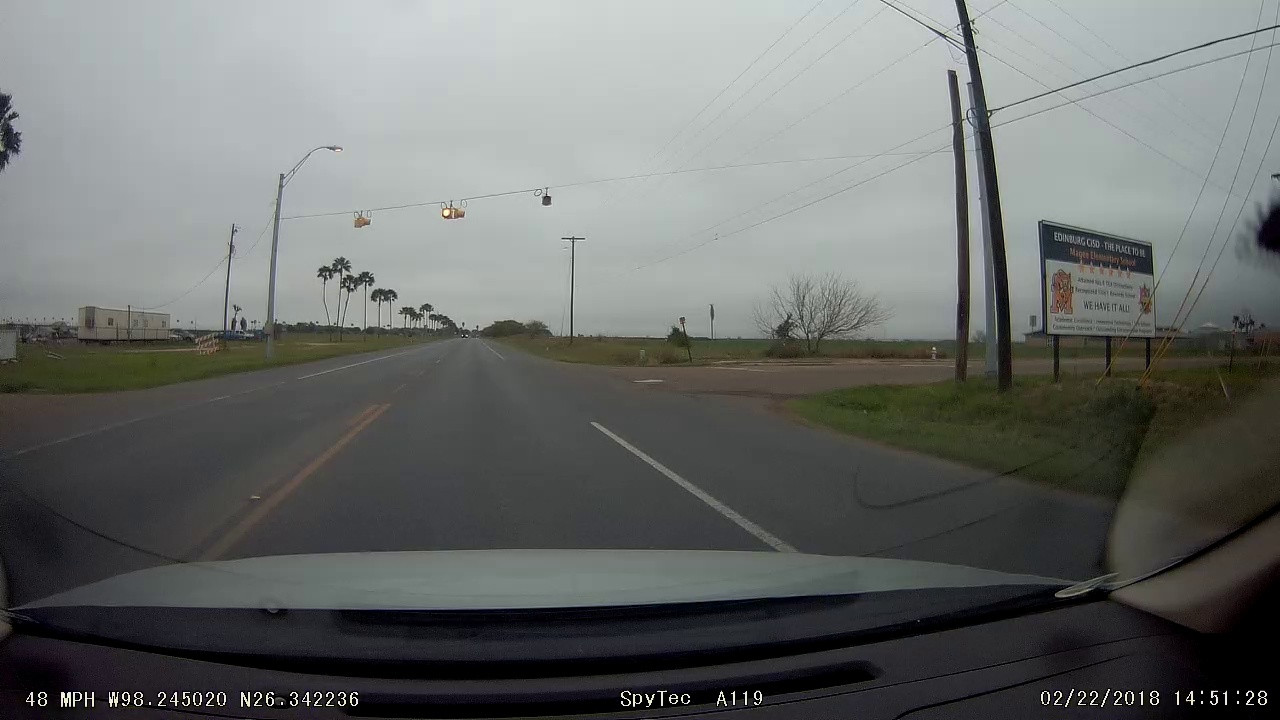blurredLine: (278, 429, 340, 478)
